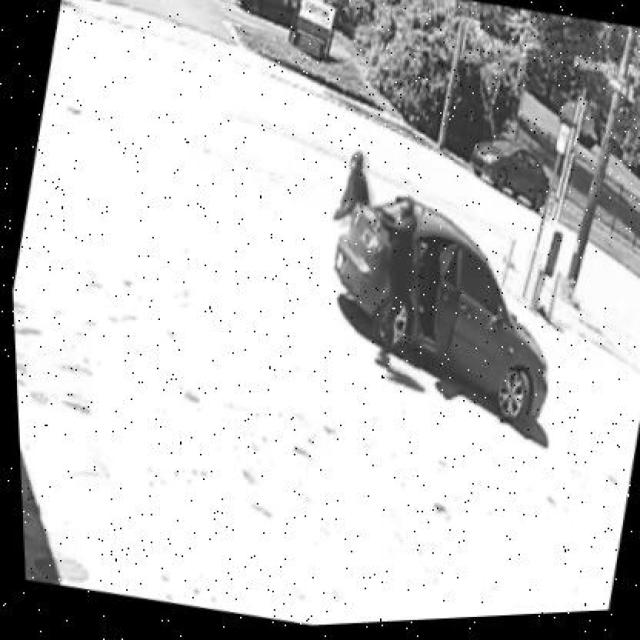weapon: (362, 203, 398, 246)
